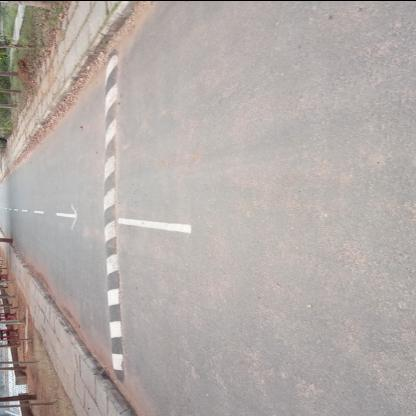speed-bumps: (92, 43, 130, 385)
